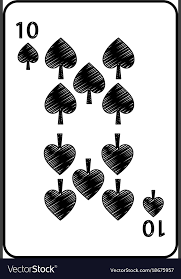ten of spades: (7, 4, 177, 257)
